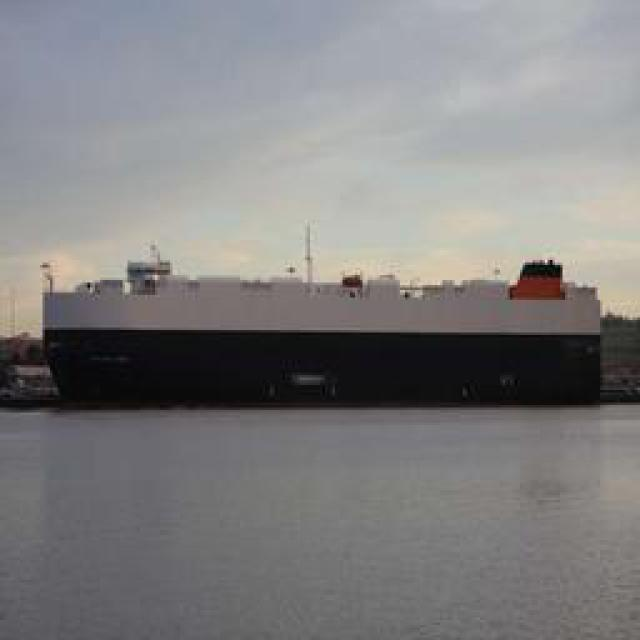Ship: (46, 259, 606, 409)
